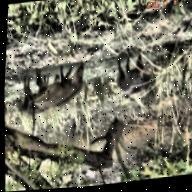boar: (33, 58, 86, 113), (113, 46, 166, 96)
